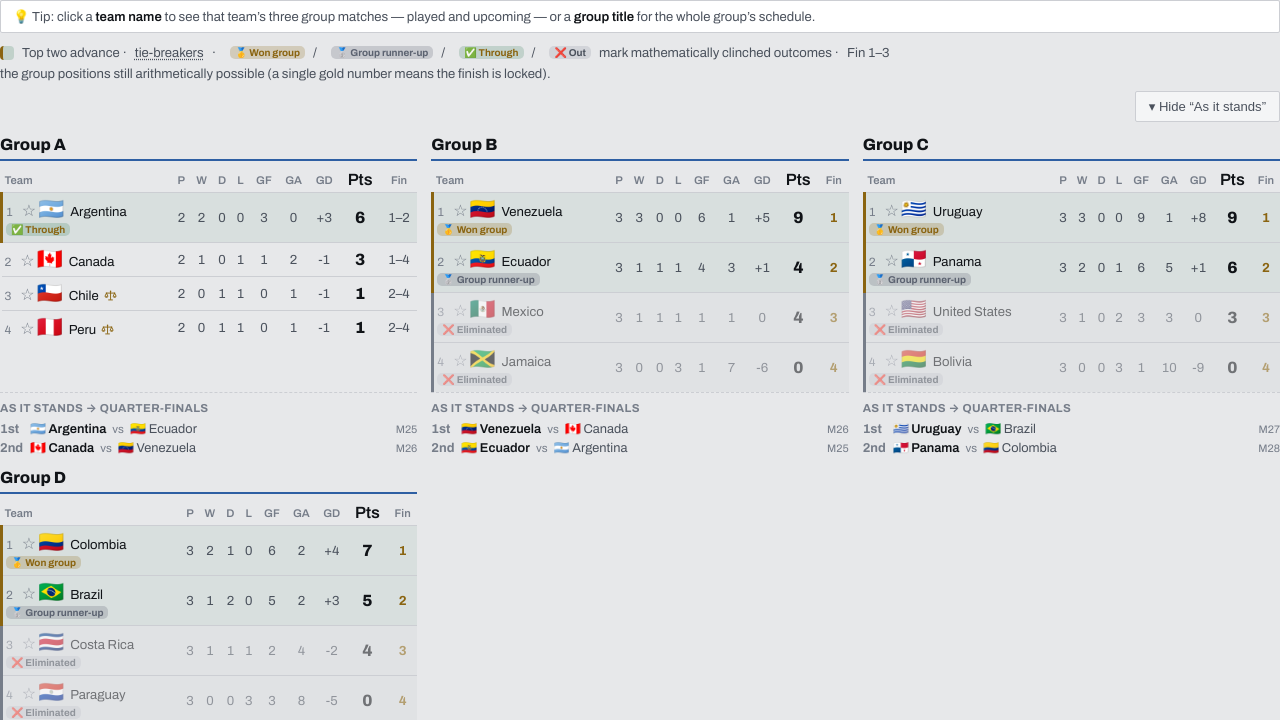
Group games pop-up › shows a confirmed (non-provisional) matchup when the opponent is locked
The image size is (1280, 720).
Click the button "Uruguay" at (958, 212), box [933,204,982,220]
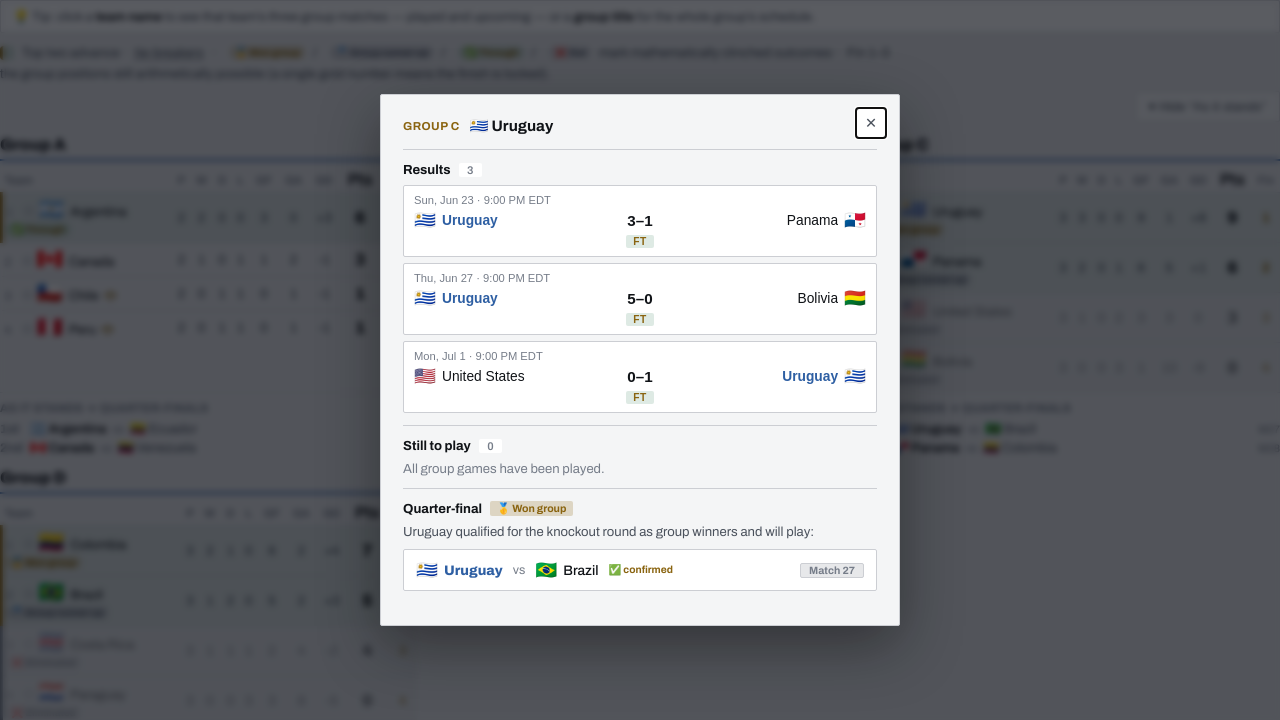
Now the element with class "gg-knockout" is shown, box [403,488,877,591]
Now the element with class "gg-ko-match" shows "Brazil", box [563,562,599,578]
Now the text "✅ confirmed" is shown, box [609,564,673,576]
